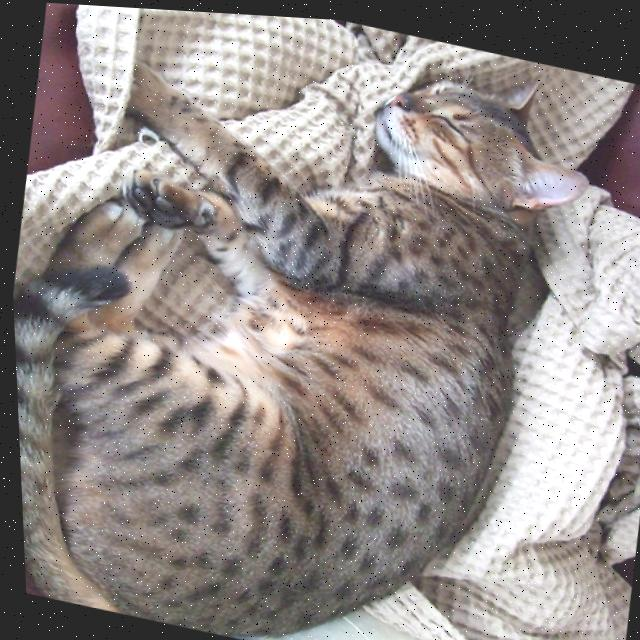Egyptian Mau: (0, 0, 624, 640)
